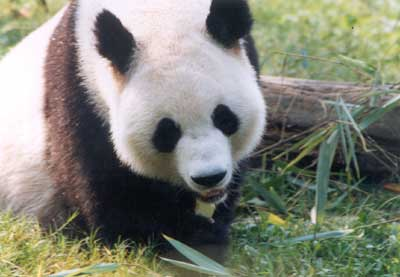panda: (1, 1, 266, 253)
